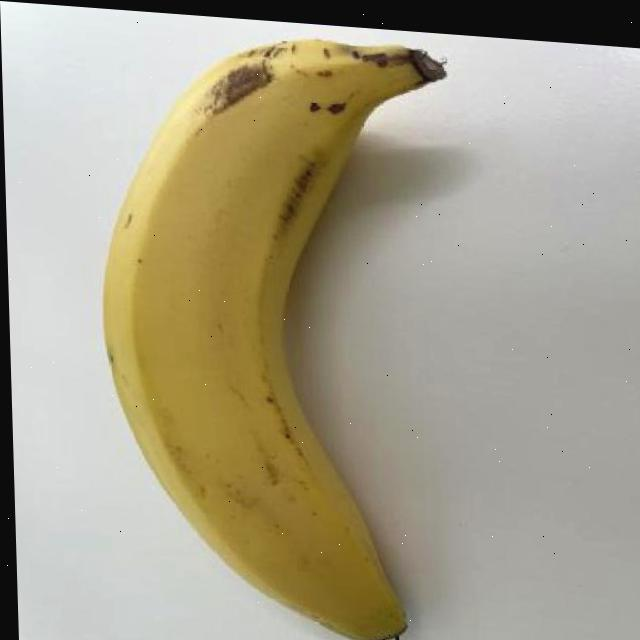banana: (88, 18, 468, 640)
